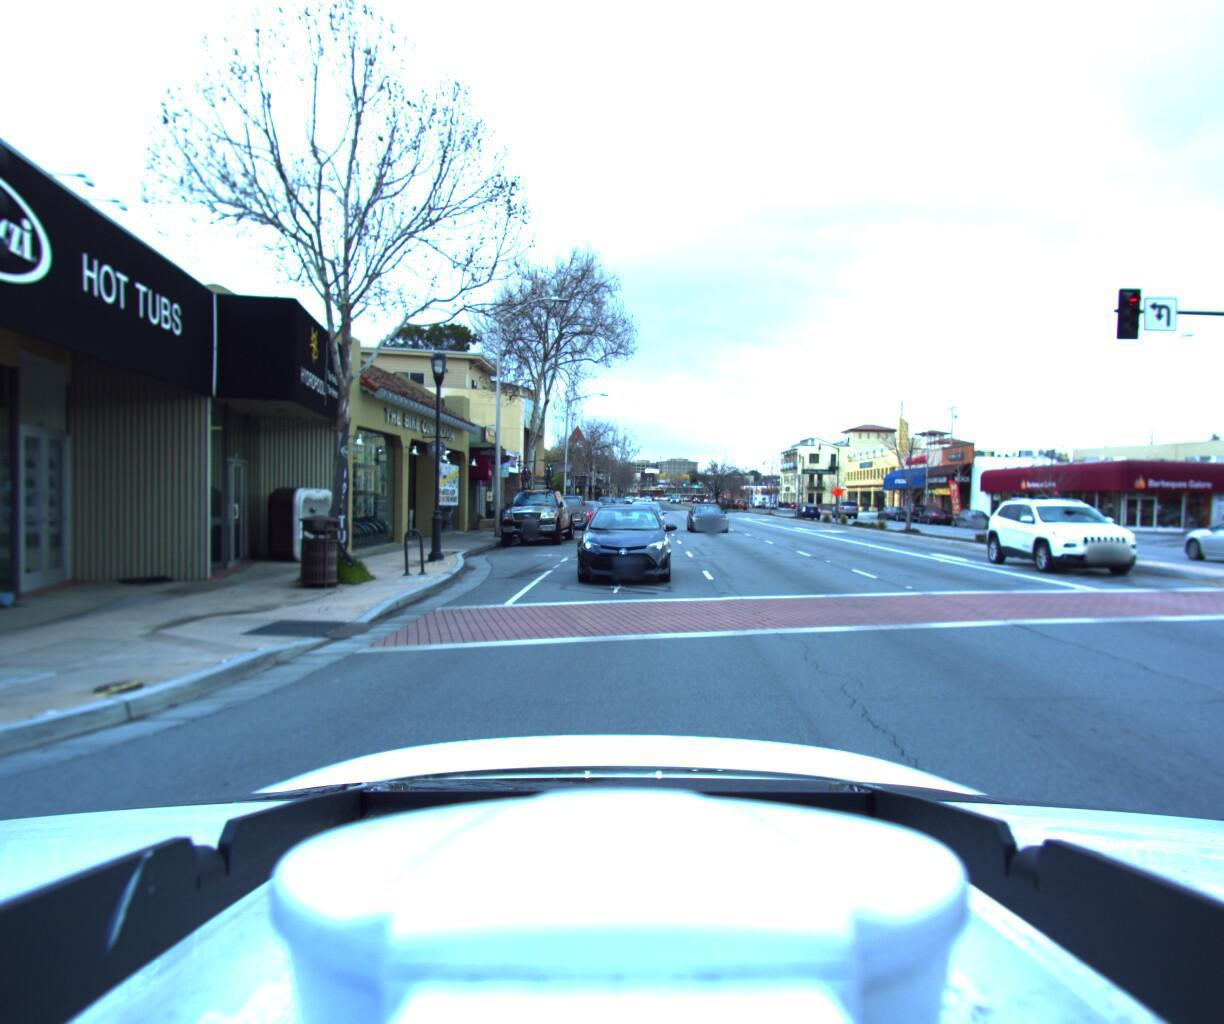car: (980, 495, 1153, 577), (570, 501, 666, 587), (493, 484, 577, 549), (1153, 513, 1224, 570), (544, 491, 592, 532), (688, 504, 734, 537), (559, 494, 601, 527), (946, 503, 994, 531), (915, 502, 955, 527), (893, 500, 929, 523), (873, 499, 905, 520), (791, 505, 819, 522), (1218, 507, 1224, 542)
